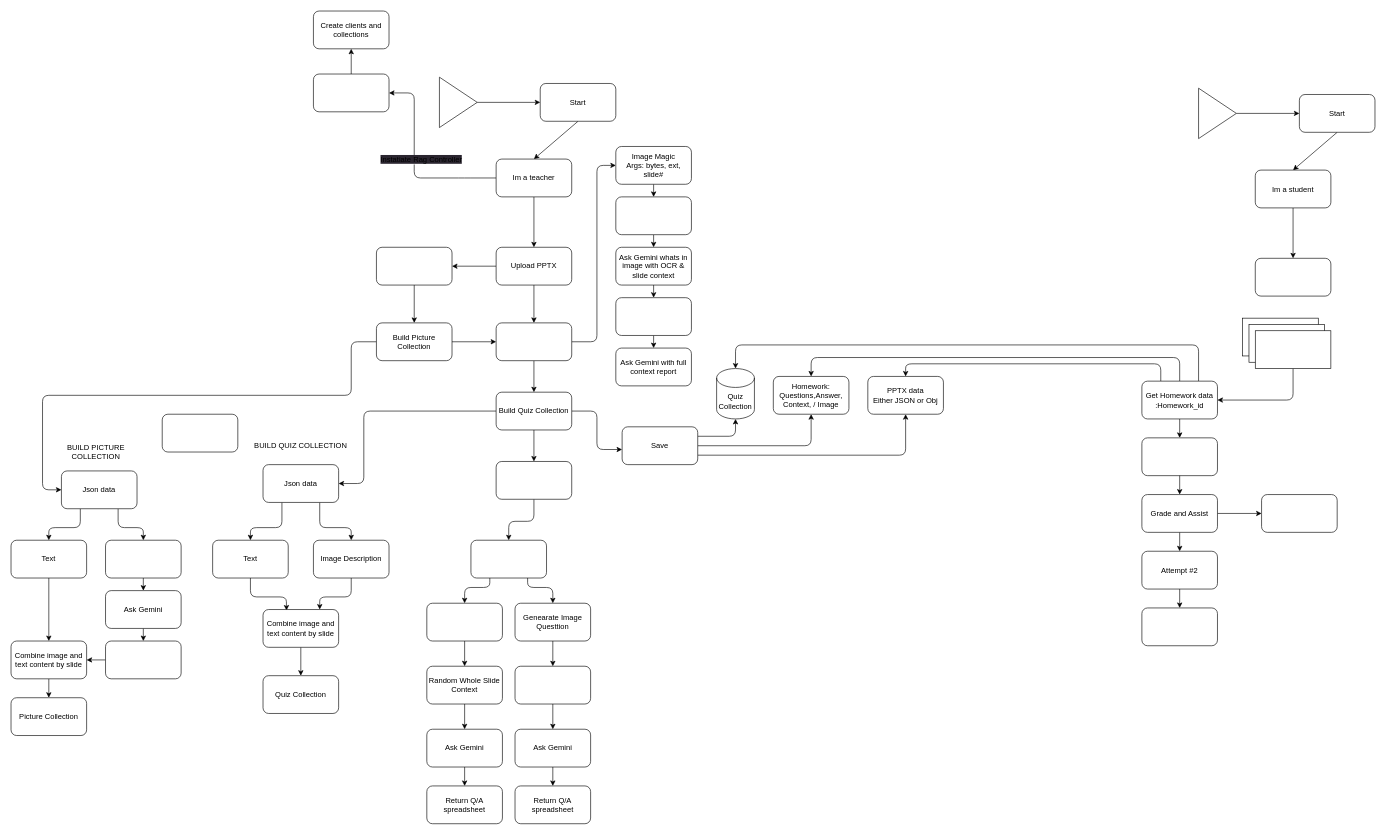
The diagram is 1386 pixels wide and 835 high, and some of its shapes have lost their labels. The centre of each missing label's shape, as x and y in pixels:
Attempt #1: pixel 1179 456
Create RAG core: pixel 351 92
Create SpreadSheet With Q/A: pixel 533 480
Describe Images: pixel 533 341
Genearate Text Questtion: pixel 464 622
Get Hint: pixel 1299 513
Grade and Final Feedback: pixel 1179 626
Homework #1: pixel 1293 349
Image: pixel 143 559
Image Text: pixel 143 659
OCR Description & Slide Context: pixel 653 215
Parse PPTX: pixel 414 266
Query Picture Collection: pixel 653 316
Quiz Master: pixel 508 559
RAG Core: pixel 200 433
Random Whole Slide Context with image: pixel 552 685
VIew homework: pixel 1293 277
